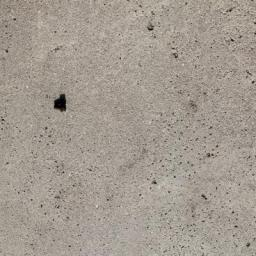FOD: (52, 91, 71, 118)
